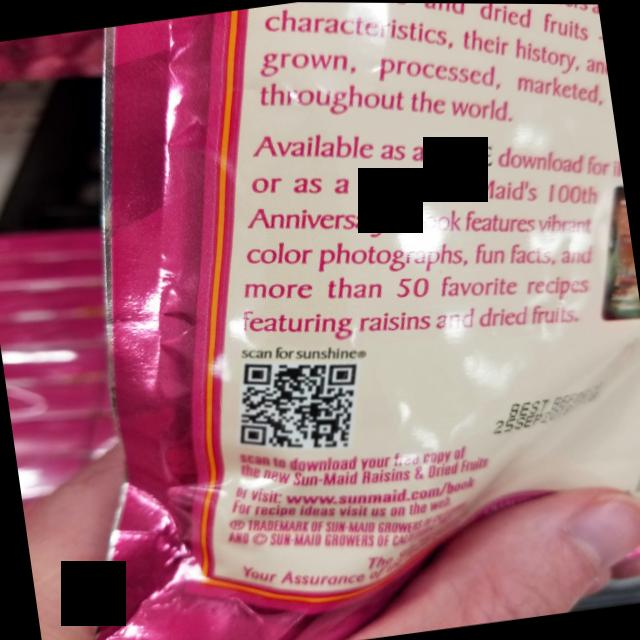QR_CODE: (212, 326, 386, 479)
